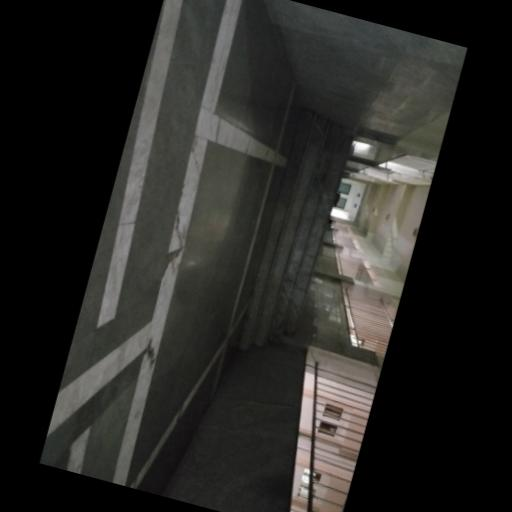stairs: (238, 111, 350, 349)
